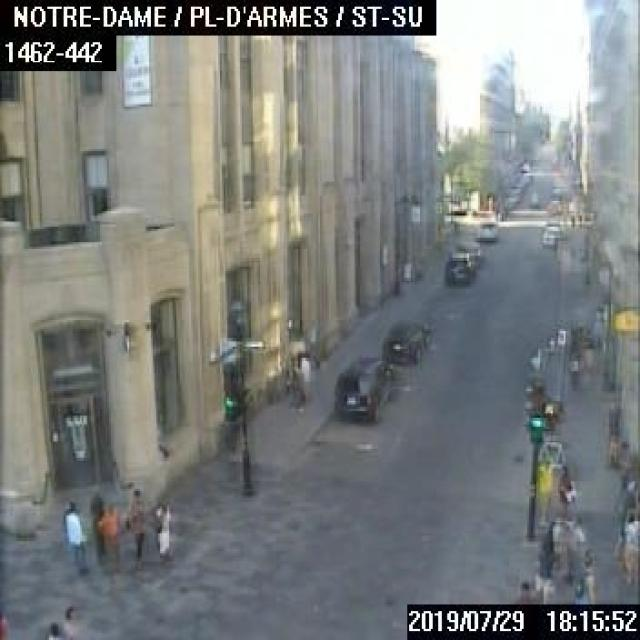pedestrian: (62, 498, 85, 576), (612, 514, 638, 582), (561, 512, 584, 586), (124, 486, 146, 560), (151, 486, 173, 560), (536, 453, 556, 530), (285, 339, 306, 412), (616, 466, 638, 535), (100, 494, 118, 568), (576, 548, 596, 602), (86, 489, 102, 556), (555, 465, 576, 515), (579, 341, 594, 388), (511, 578, 537, 602), (62, 603, 79, 638), (566, 345, 578, 389), (44, 618, 62, 638), (0, 609, 5, 638)
vehicle: (329, 354, 396, 424), (378, 318, 432, 366), (444, 250, 474, 282), (457, 240, 481, 266), (542, 224, 562, 244), (476, 220, 496, 240)
